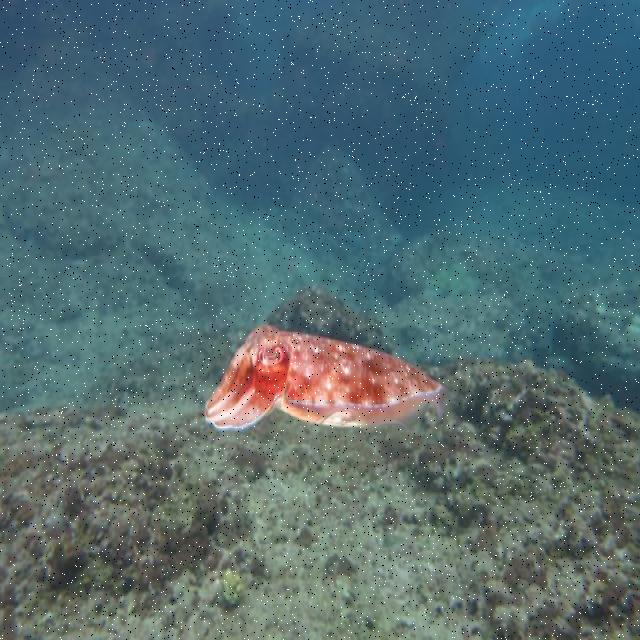fish: (204, 325, 447, 433)
